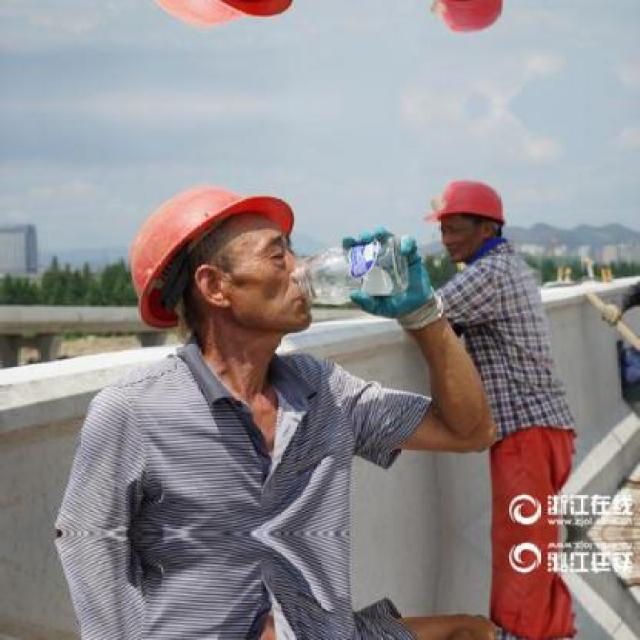helmet: (112, 164, 319, 362), (111, 0, 320, 49), (425, 172, 510, 258), (424, 0, 510, 42)
